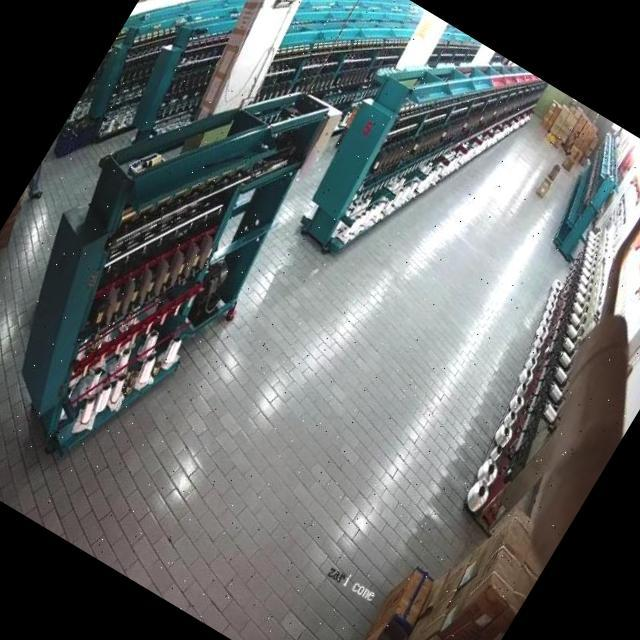person: (18, 140, 72, 212)
